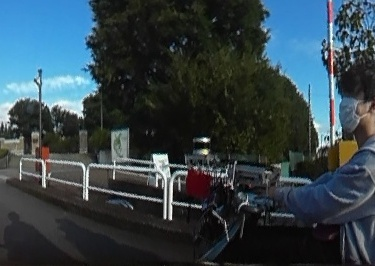person: (313, 63, 375, 266)
